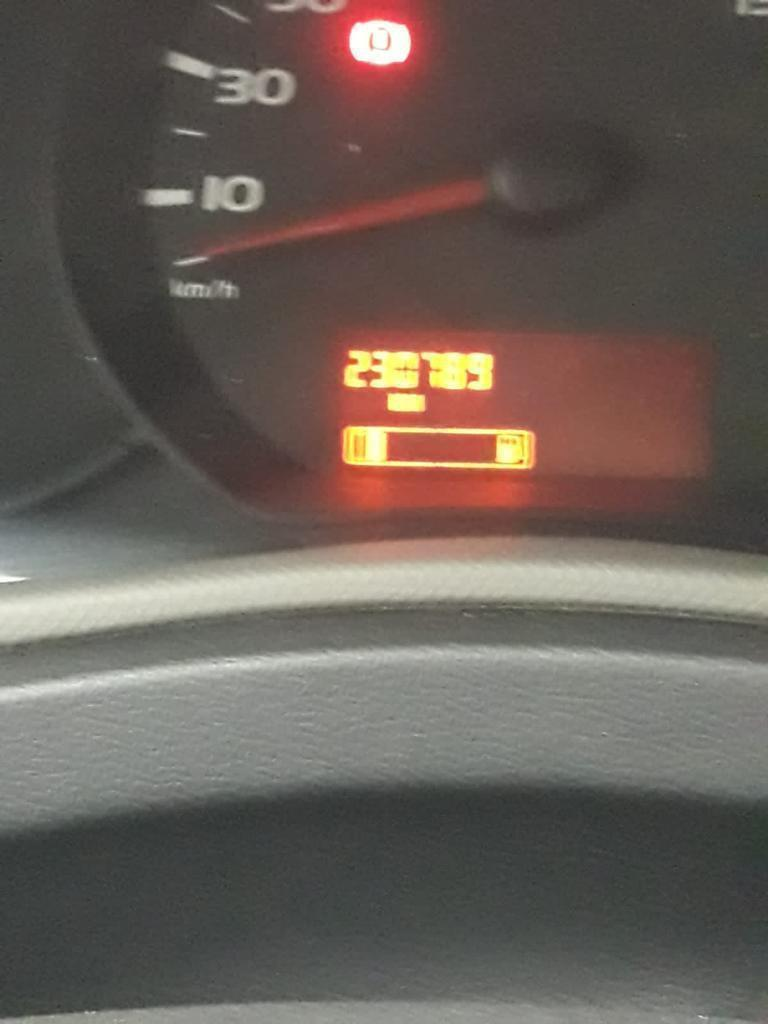0: (394, 348, 419, 392)
2: (342, 348, 369, 388)
3: (371, 348, 392, 389)
7: (420, 346, 440, 391)
8: (443, 348, 466, 393)
9: (467, 350, 494, 393)
odometer: (308, 315, 724, 490)
